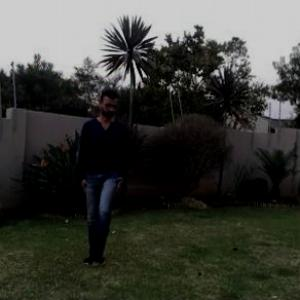follow: (66, 70, 136, 274)
